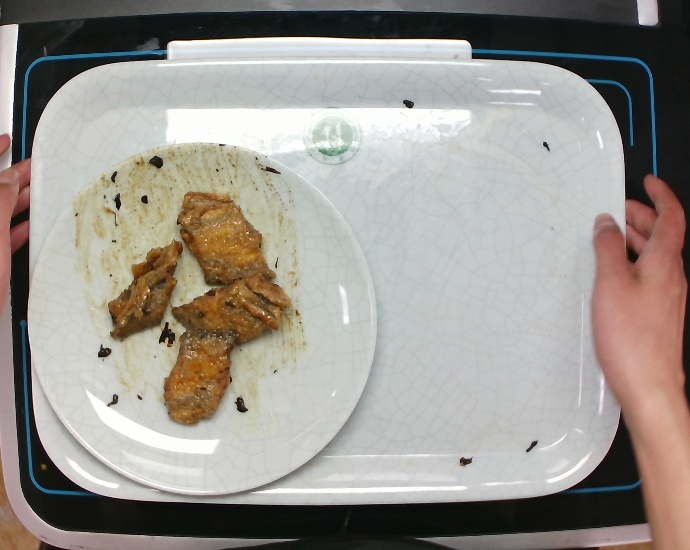JYsf-Da_Yuan_Pan: (21, 134, 383, 501)
